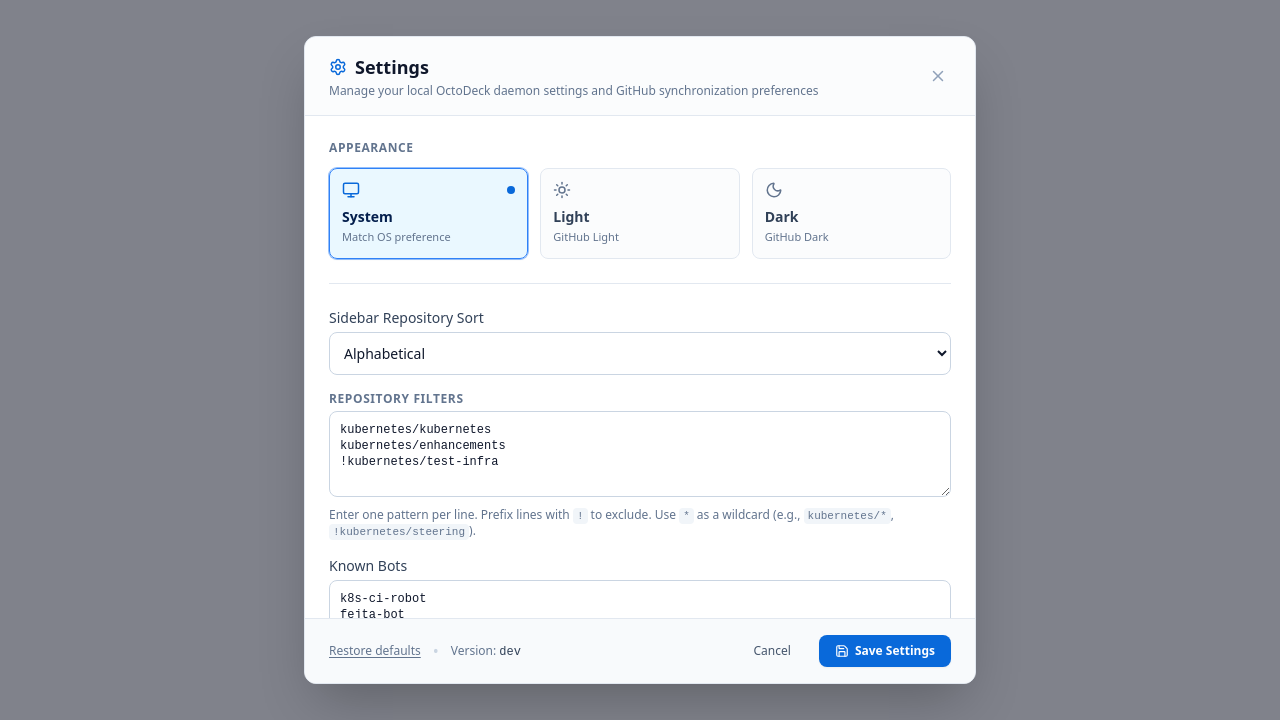
Test: Settings Component › handles save error properly and displays error alert without closing
Click the button "Save Settings" at x=885, y=651, box [819,635,951,667]
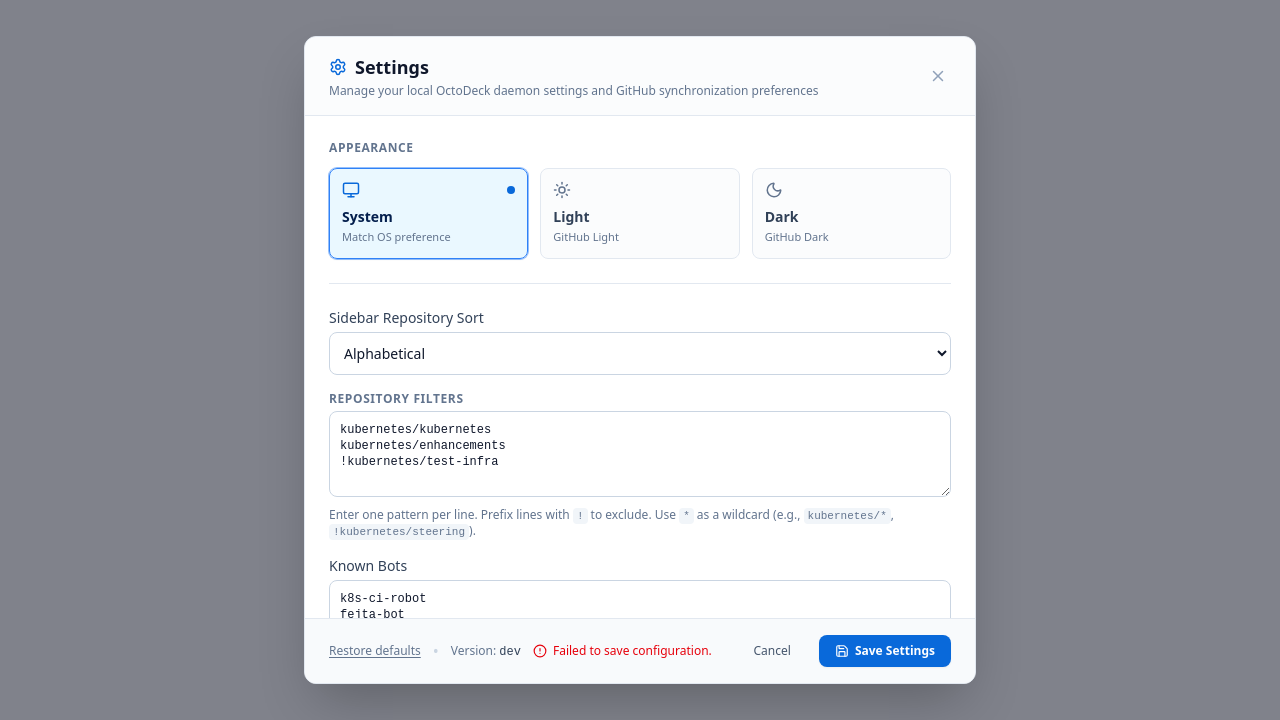
Expected: the text "Failed to save configuration." is shown, [553,643,712,659]
